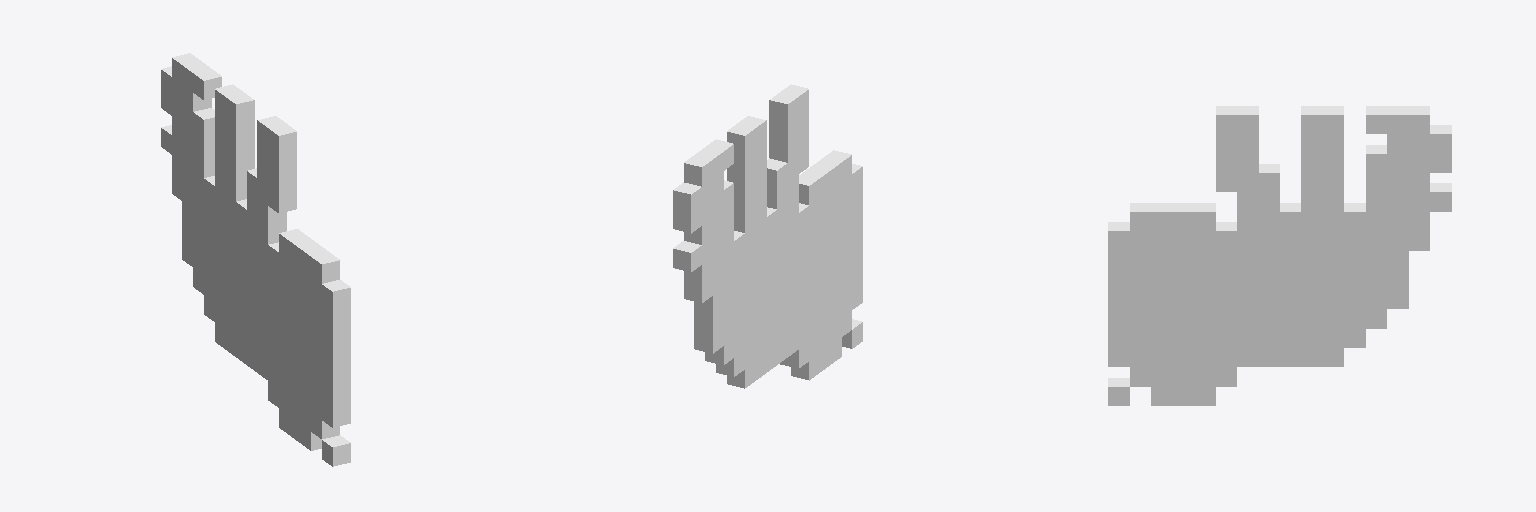
Rendered from Crawl2.obj.
3 renders of one model, left to right at view 1: azimuth 30°, elevation 25°; view 2: azimuth 150°, elevation 25°; view 3: azimuth 270°, elevation 25°, orthographic.
Visible parts, largest first — view 1: object 1; view 2: object 1; view 3: object 1.
Part boxes in pixels (x1,y1,x2,y2): object 1: (161,53,350,466); object 1: (673,84,862,388); object 1: (1108,106,1451,405).
Bounding box in the file's own units: 0.1 × 1.5 × 1.6.